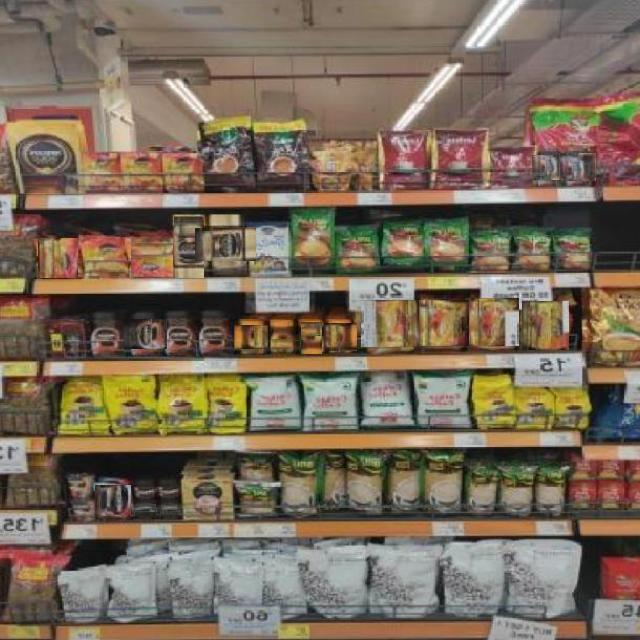Coffee: (361, 300, 419, 347), (412, 300, 469, 346), (464, 299, 519, 346), (521, 302, 569, 350), (195, 229, 256, 261), (174, 215, 204, 278), (130, 238, 173, 277), (37, 239, 78, 278), (85, 238, 125, 277), (91, 310, 124, 356), (200, 310, 233, 355), (122, 319, 167, 349), (165, 310, 194, 354), (94, 485, 131, 517), (558, 154, 596, 181), (532, 155, 569, 180), (324, 323, 357, 351), (270, 321, 295, 355), (235, 324, 268, 349), (301, 321, 322, 354), (134, 500, 156, 519), (158, 479, 179, 498), (135, 479, 153, 498), (160, 500, 178, 519)
